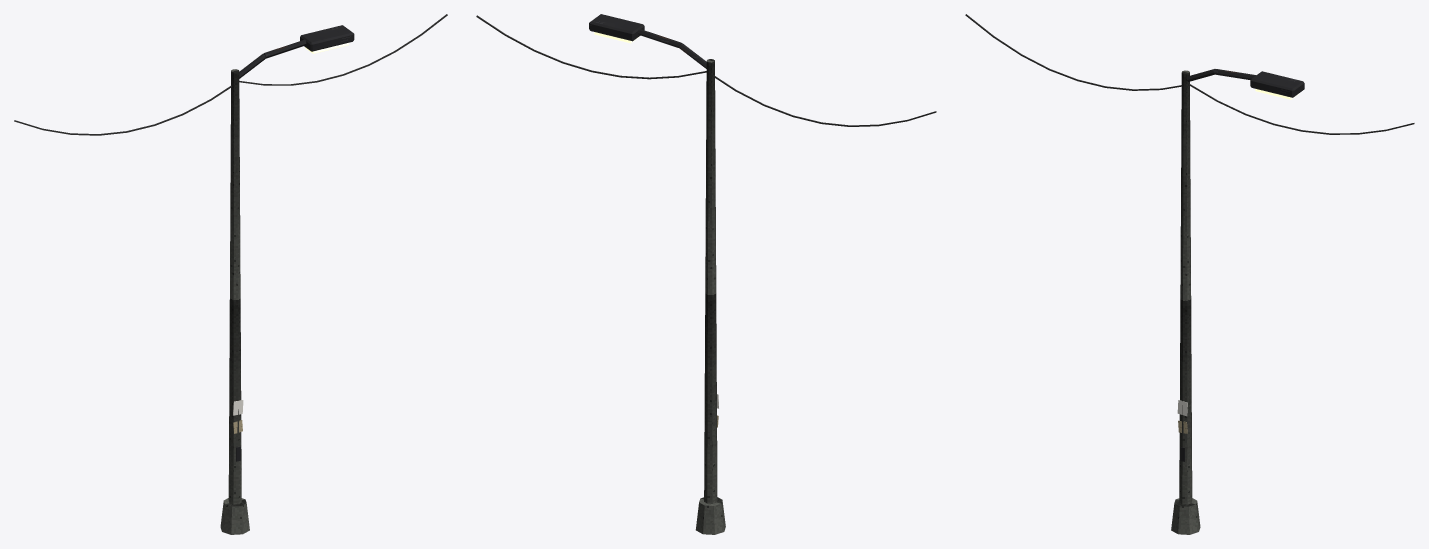
The model's file is street_lamp_sodium.glb.
3 views of the same model, side by side, from view 1: azimuth 30°, elevation 25°; view 2: azimuth 150°, elevation 25°; view 3: azimuth 330°, elevation 25° (orthographic). The views are drawn at different scales.
Visible parts, largest first — view 1: street_lamp_sodium; view 2: street_lamp_sodium; view 3: street_lamp_sodium.
Part boxes in pixels (left/top/right/bottom): street_lamp_sodium: left=14, top=14, right=447, bottom=534; street_lamp_sodium: left=476, top=14, right=936, bottom=534; street_lamp_sodium: left=965, top=14, right=1414, bottom=534.
Size of what is drawn, in the model's own units: 6.01 by 6.14 by 0.3878.
6 materials, 3 textured.
